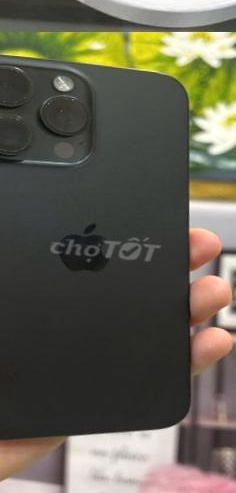scratch: (0, 60, 98, 162)
